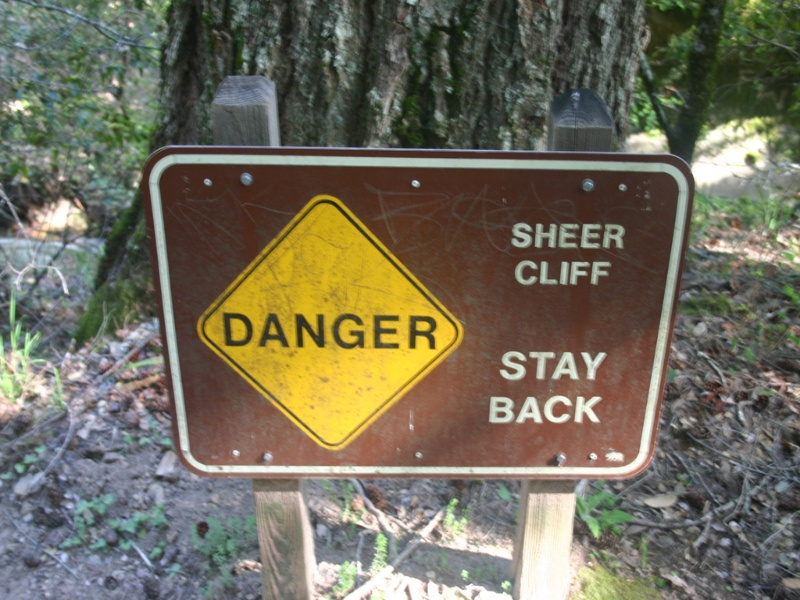cliff_edge: (152, 159, 679, 500)
